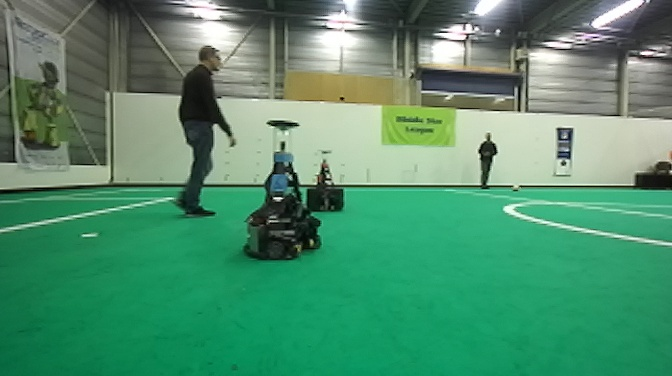ball: (509, 181, 523, 194)
human: (167, 44, 239, 219), (473, 133, 495, 189)
robot: (239, 119, 324, 262), (306, 148, 347, 212)
